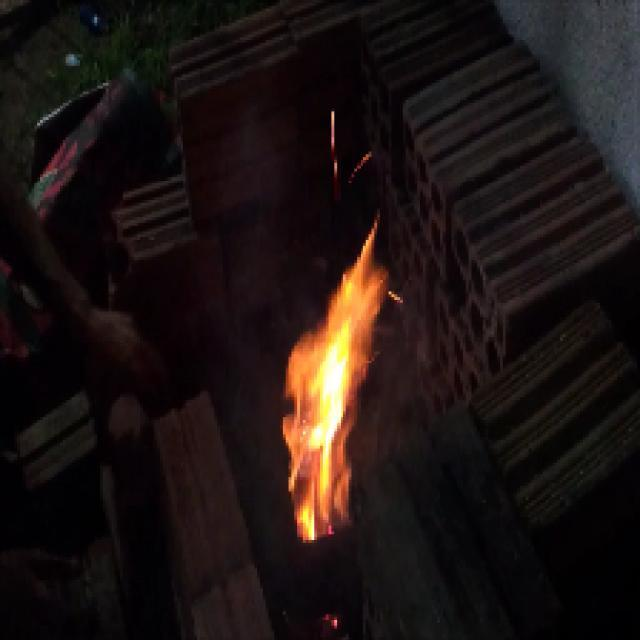Fire: (283, 214, 392, 552)
Smoke: (206, 109, 303, 472)
